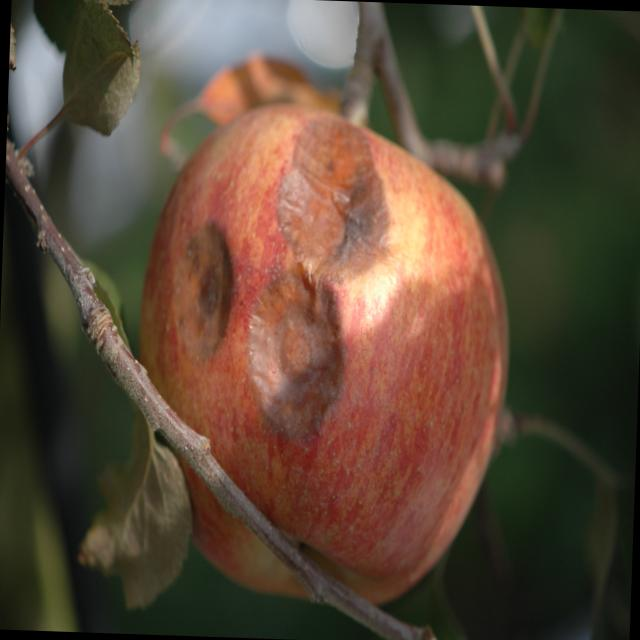rotten: (117, 88, 524, 625)
